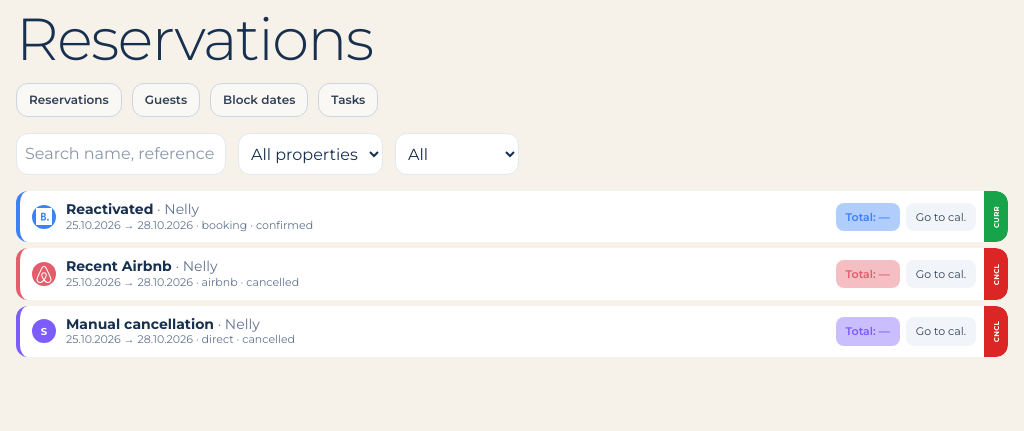
Test: cancelled import archive › moves old cancellations from every imported provider into a searchable archive
The width and height of the screenshot is (1024, 431).
Expected: the text "Recent Airbnb" is shown, [66,258,172,276]
Expected: the text "Old Airbnb" is not shown
Select "Archived" in the dropdown named "Reservation filter". click: [457, 154]
box: [395,133,519,175]
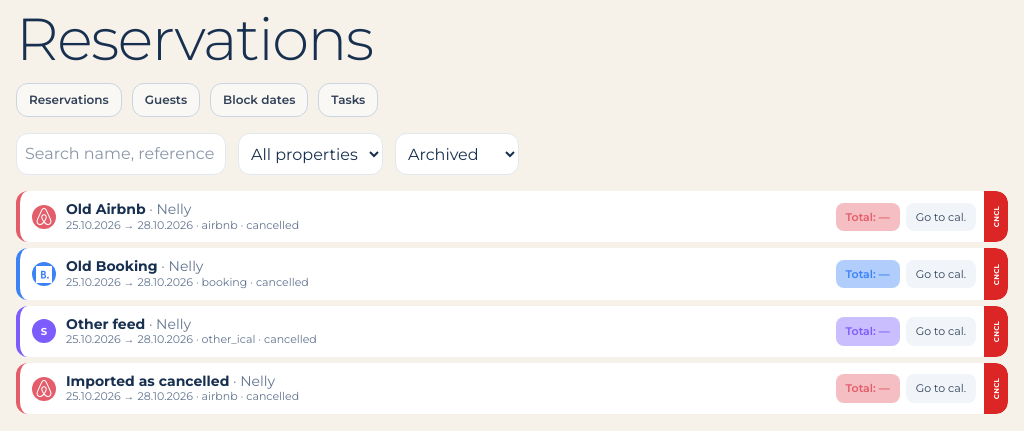
Expected: the text "Old Airbnb" is shown, [66,201,146,218]
Expected: the text "Old Booking" is shown, [66,258,158,276]
Expected: the text "Other feed" is shown, [66,316,145,333]
Type "Old Booking" into the field labelled "Search". click: [121, 154]
box: [16,133,226,175]
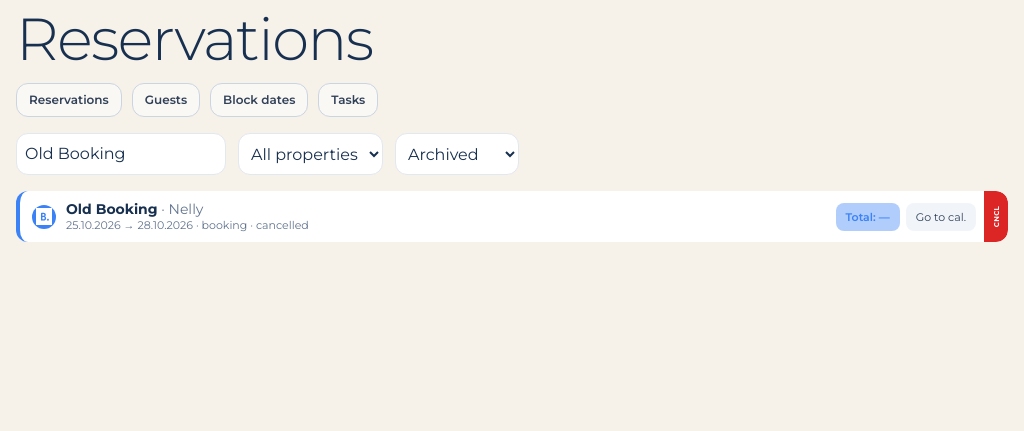
Expected: the text "Old Booking" is shown, [66,201,158,218]
Expected: the text "Old Airbnb" is gone
